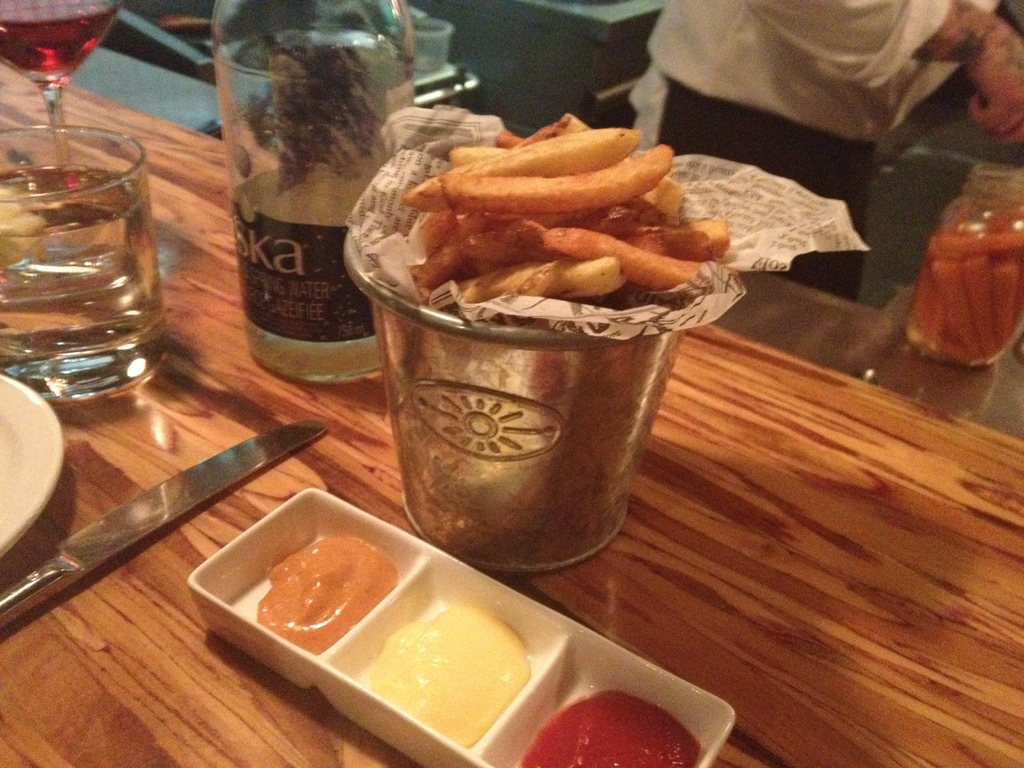French fries: (369, 111, 708, 270)
